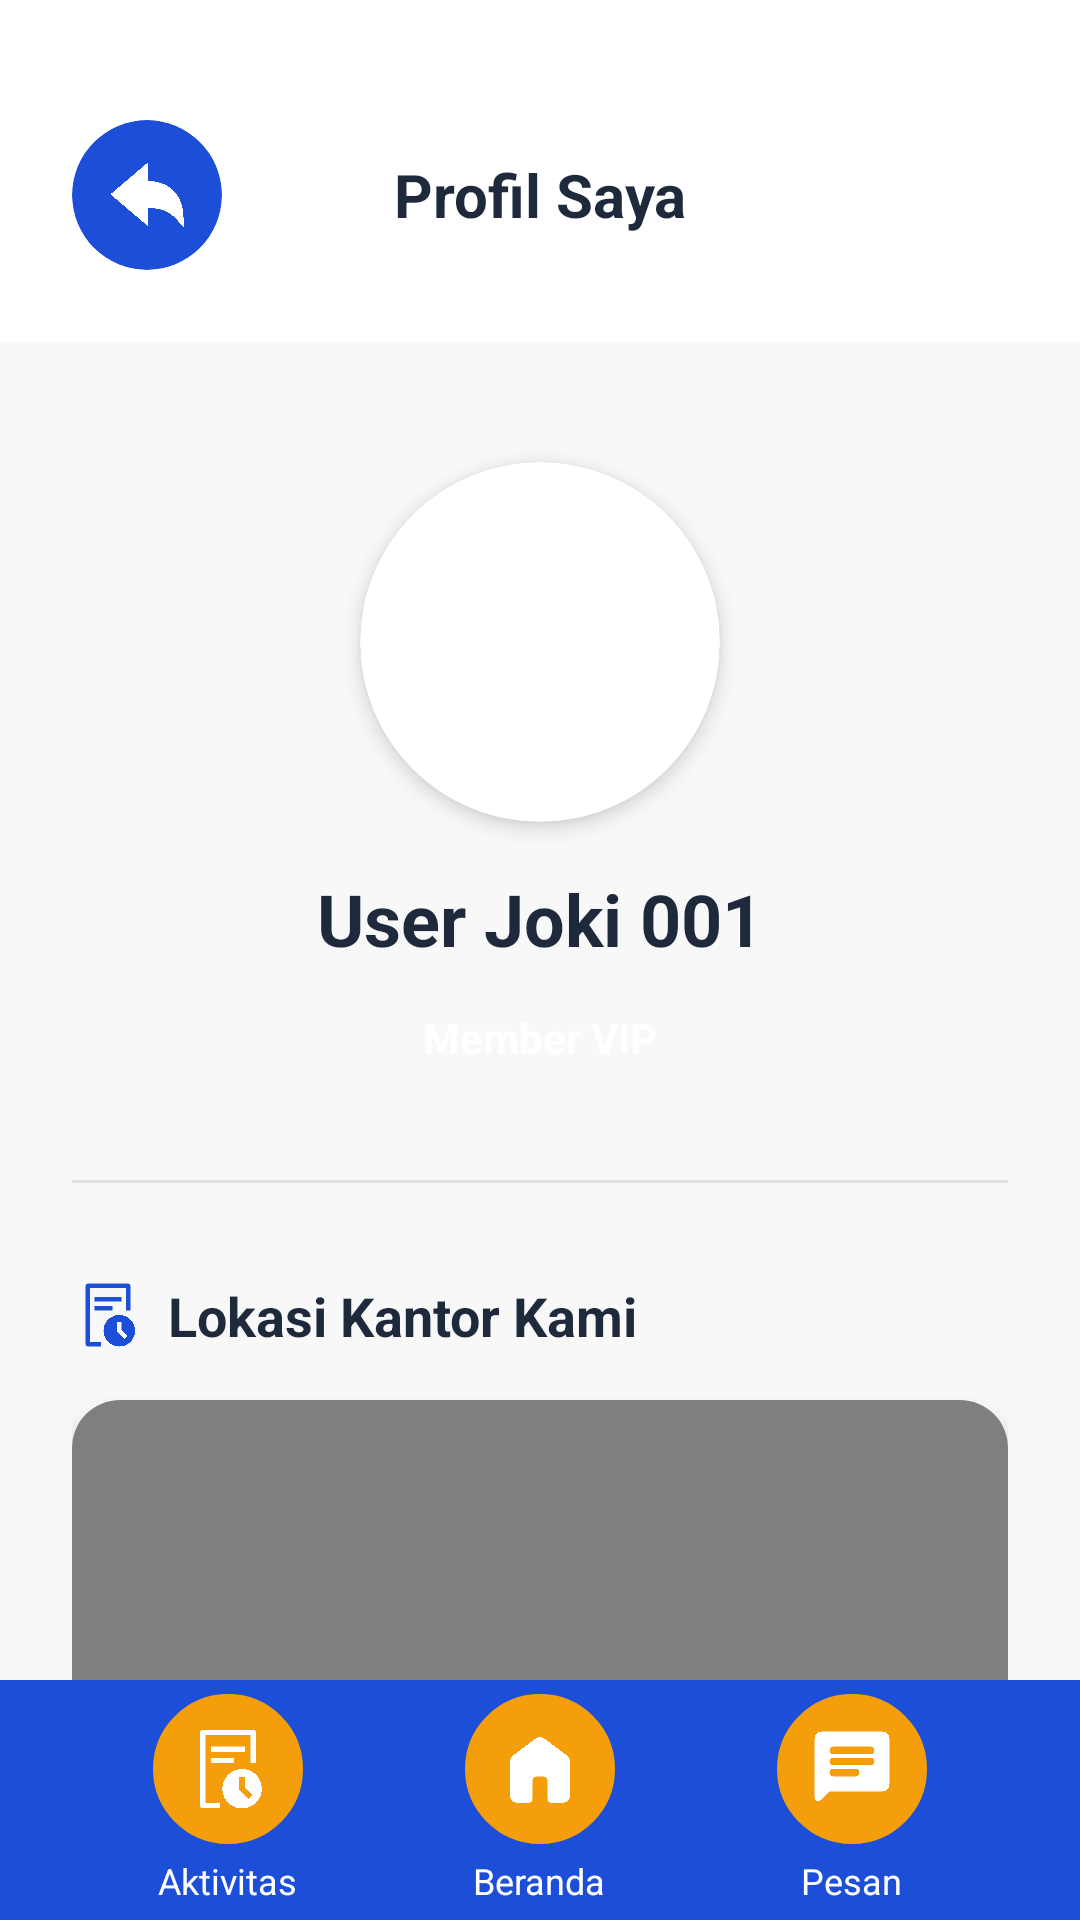

Locate icon controls on the screen. Image size 1080 x 1920, boxes as rect(x1, y1, x2, y2).
back: rect(111, 163, 184, 227)
